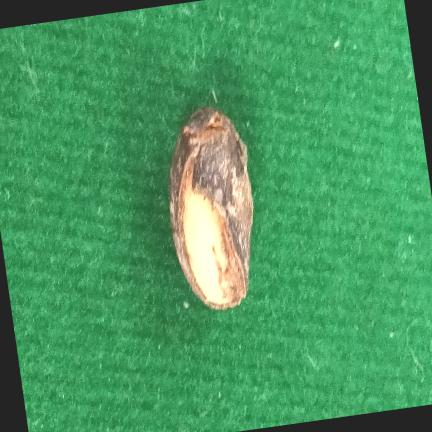husk: (169, 107, 253, 308)
